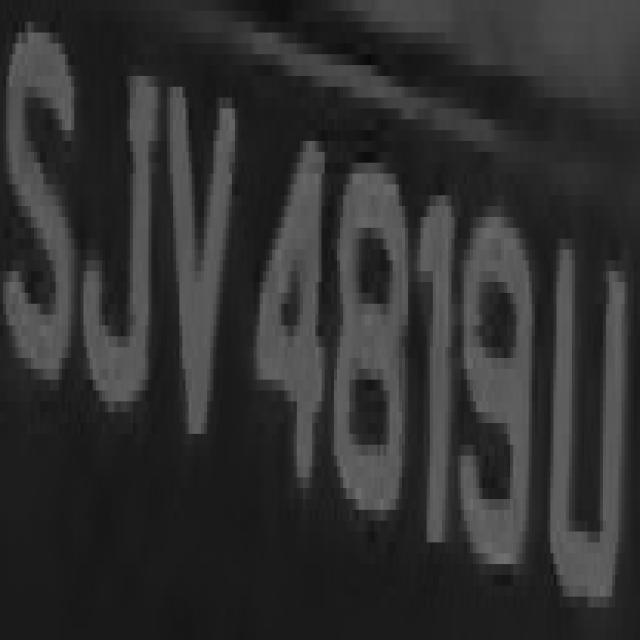1: (417, 152, 461, 575)
4: (241, 76, 334, 510)
8: (322, 130, 408, 553)
9: (451, 196, 535, 618)
J: (71, 32, 161, 434)
S: (6, 11, 74, 401)
U: (535, 195, 631, 640)
V: (161, 44, 235, 466)
